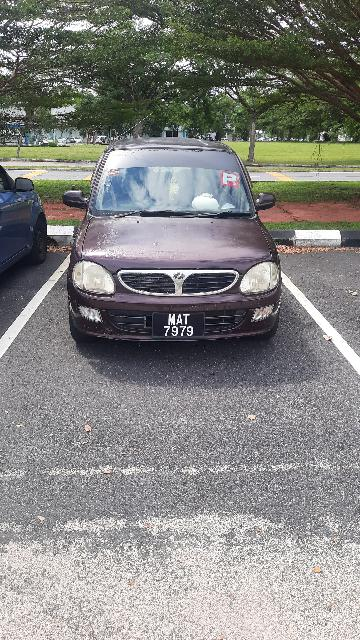License_Plate: (158, 308, 214, 348)
car: (66, 135, 283, 358)
